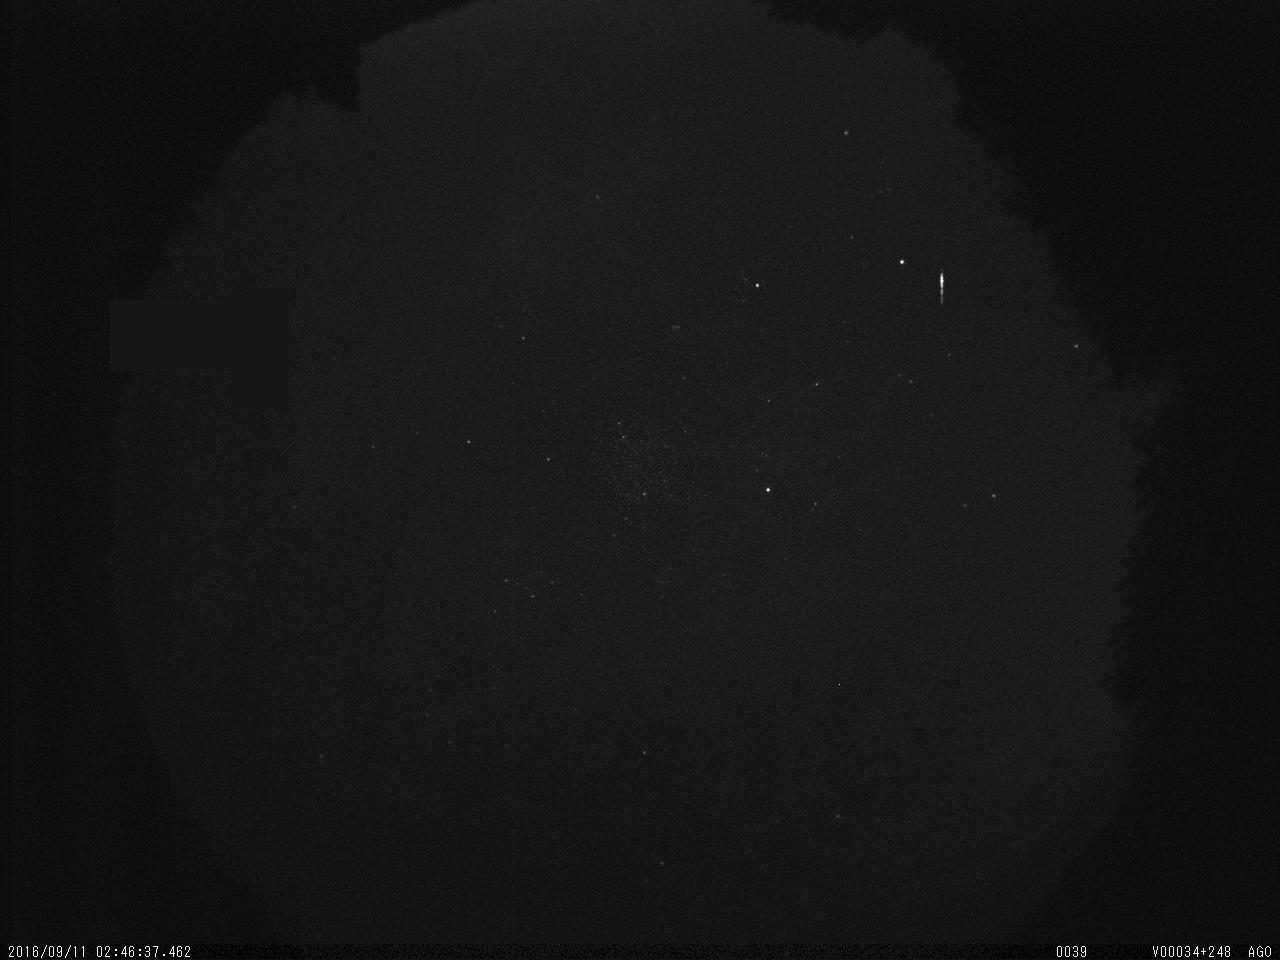meteor: (932, 265, 954, 310)
